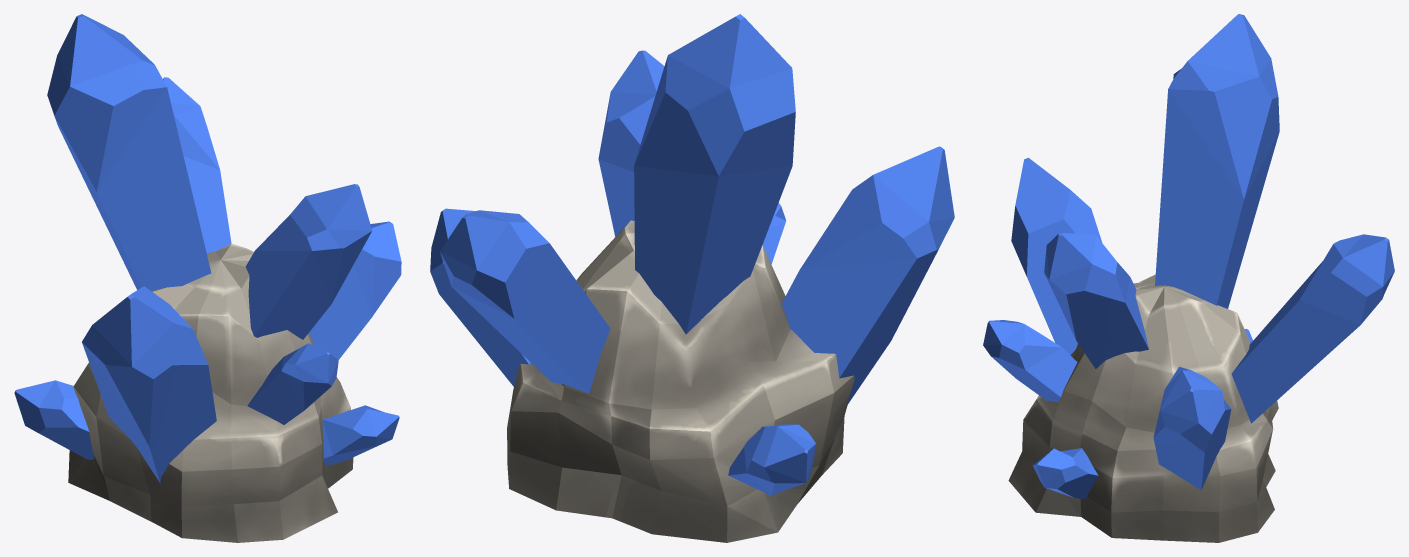
Rendered from blue-ore.glb.
3 views of the same model, side by side, from view 1: azimuth 30°, elevation 25°; view 2: azimuth 150°, elevation 25°; view 3: azimuth 270°, elevation 25° (orthographic). The views are drawn at different scales.
Visible parts, largest first — view 1: small_ore_4_Cube.001; view 2: small_ore_4_Cube.001; view 3: small_ore_4_Cube.001.
Boxes of the visible parts, x1=… form: small_ore_4_Cube.001: x1=14, y1=14, x2=401, y2=542; small_ore_4_Cube.001: x1=430, y1=14, x2=954, y2=542; small_ore_4_Cube.001: x1=983, y1=14, x2=1394, y2=542.
Size of the model in its own units: 1.23 by 1.45 by 1.26.
Materials: 2 (1 with a texture image).
